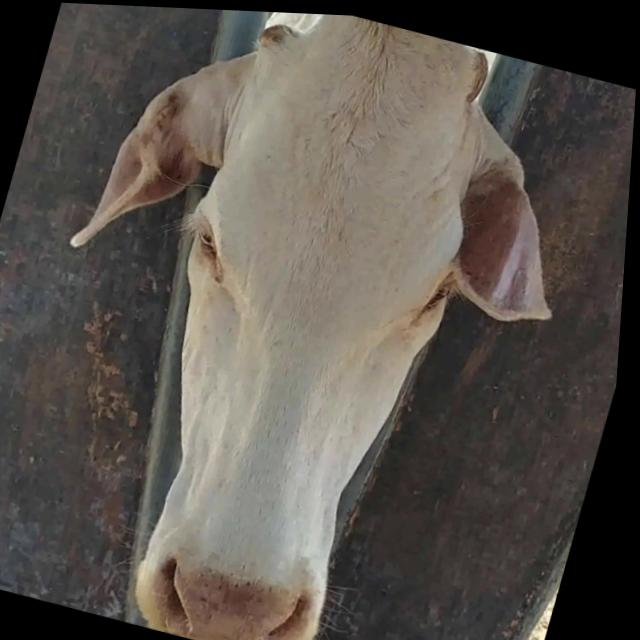cowFace: (95, 5, 517, 640)
